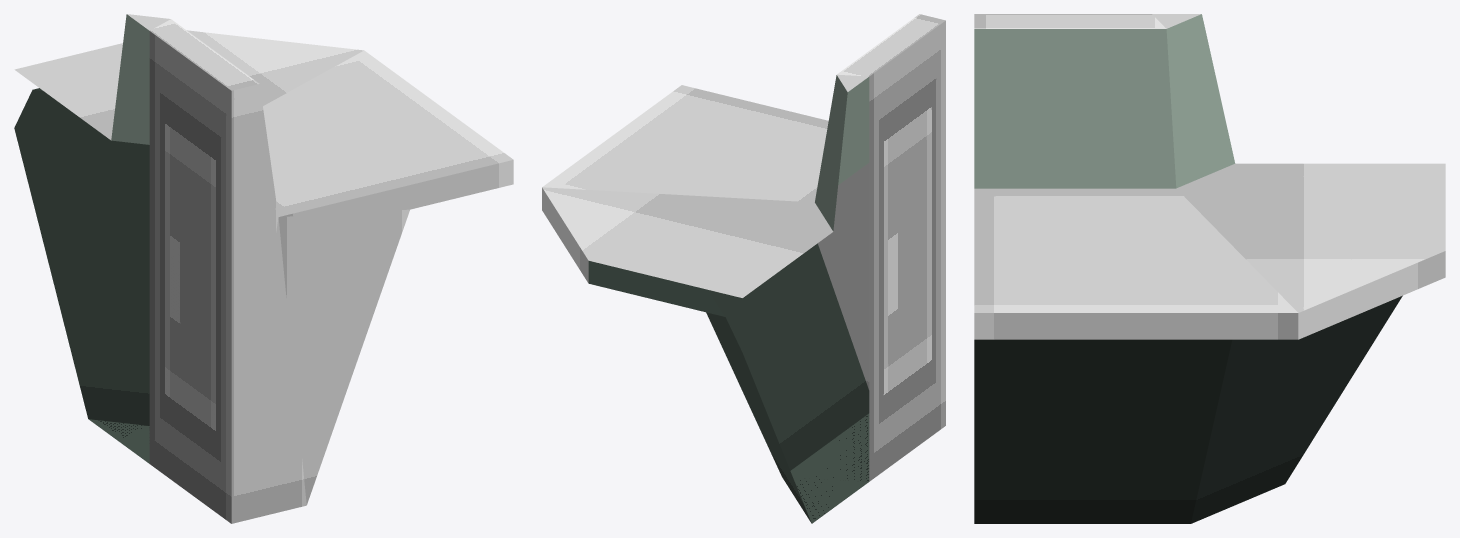
The model's file is run_desk_outside_bend_b_0.obj.
The picture shows the model from 3 angles, left to right: view 1: azimuth 30°, elevation 25°; view 2: azimuth 150°, elevation 25°; view 3: azimuth 270°, elevation 25°; orthographic projection. The views are drawn at different scales.
Size of the model in its own units: 0.75 by 1.1 by 1.
